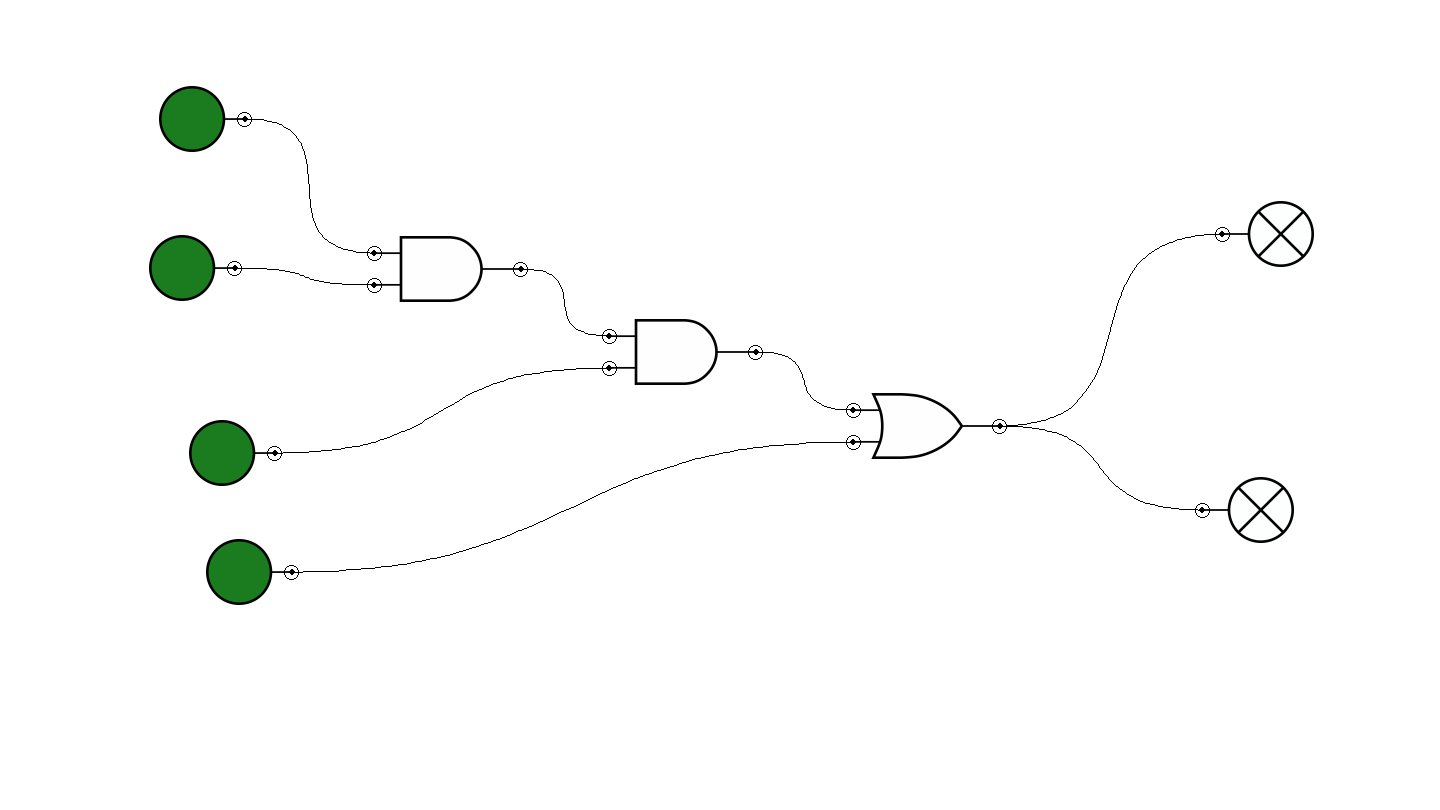and: (367, 236, 528, 302), (602, 319, 763, 385)
bulb: (1195, 477, 1294, 543), (1215, 201, 1314, 267)
or: (846, 393, 1007, 459)
switch_True: (159, 86, 252, 152), (206, 539, 299, 605), (189, 420, 282, 486), (149, 235, 242, 301)
